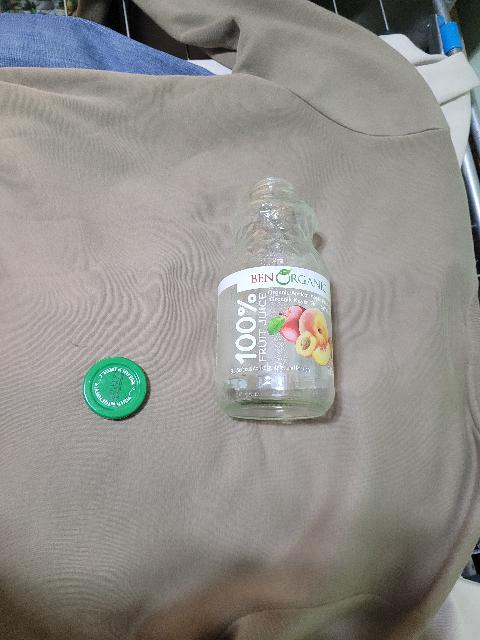Kagit: (202, 173, 349, 432)
Metal: (78, 347, 162, 434)
